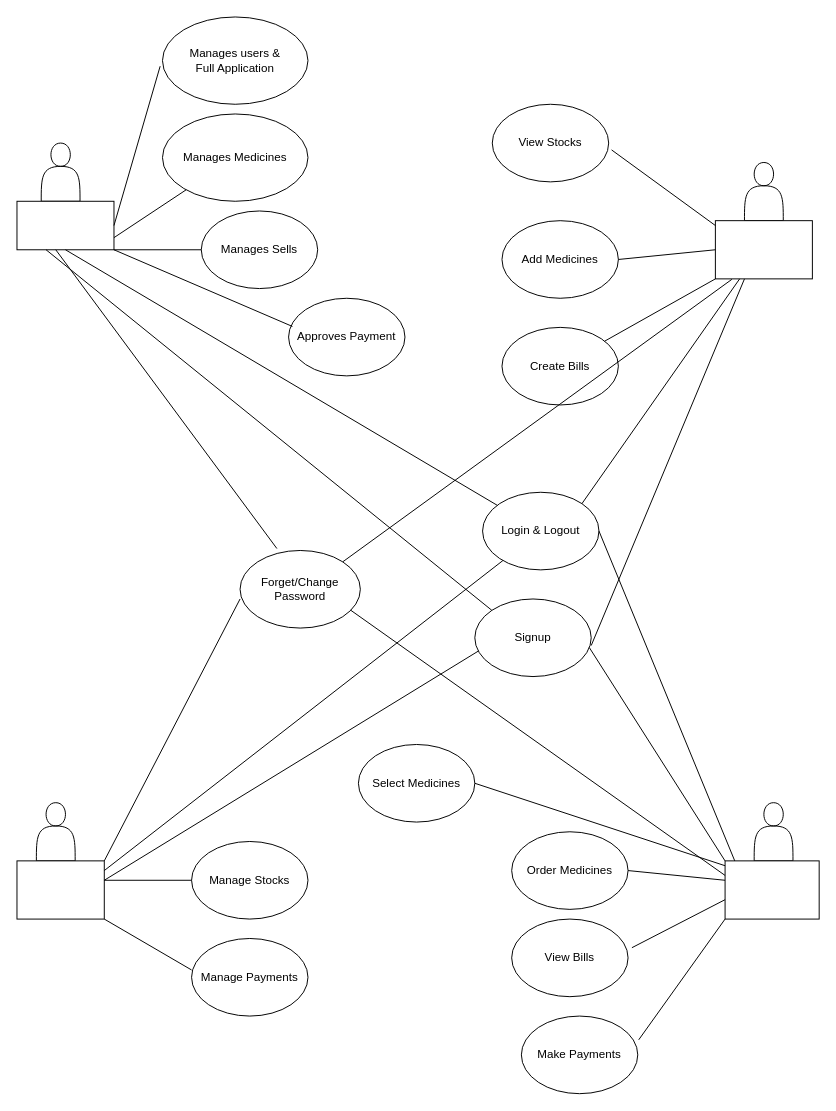
This 836x1111 diagram has some shape labels left out. Here are the shapes that lost their labels. From the top down, the box of each, then its label:
(16, 200, 114, 250): Super Admin
(714, 220, 812, 279): Shopkeeper
(16, 860, 104, 919): System User
(724, 860, 819, 919): Customers
